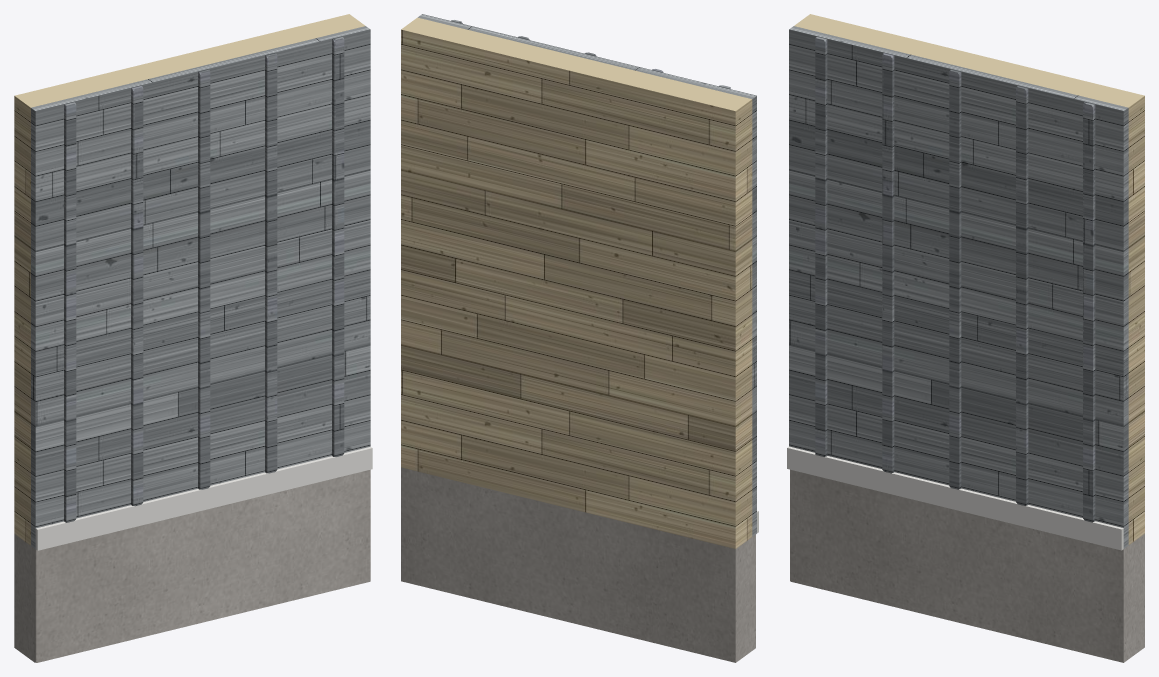
Rendered from o_plain.glb.
3 renders of one model, left to right at view 1: azimuth 30°, elevation 25°; view 2: azimuth 150°, elevation 25°; view 3: azimuth 330°, elevation 25°, orthographic.
Parts seen in each view (by area): view 1: o_plain_siding, o_plain_concrete, o_plain_batten, o_plain_plaster, o_plain_trim; view 2: o_plain_plaster, o_plain_concrete, o_plain_siding; view 3: o_plain_siding, o_plain_concrete, o_plain_batten, o_plain_plaster, o_plain_trim.
Part boxes in pixels (x1,y1,x2,y2): o_plain_siding: (31,26,370,548); o_plain_concrete: (14,469,370,662); o_plain_batten: (64,36,344,522); o_plain_plaster: (14,14,365,545); o_plain_trim: (35,447,372,550); o_plain_plaster: (401,17,752,548); o_plain_concrete: (401,467,755,662); o_plain_siding: (418,14,756,536); o_plain_siding: (789,26,1128,548); o_plain_concrete: (790,469,1144,662); o_plain_batten: (815,36,1095,522); o_plain_plaster: (794,14,1144,544); o_plain_trim: (787,446,1123,550).
Bounding box in the file's own units: 2 × 3.15 × 0.242.
Materials: 5 (4 with a texture image).
